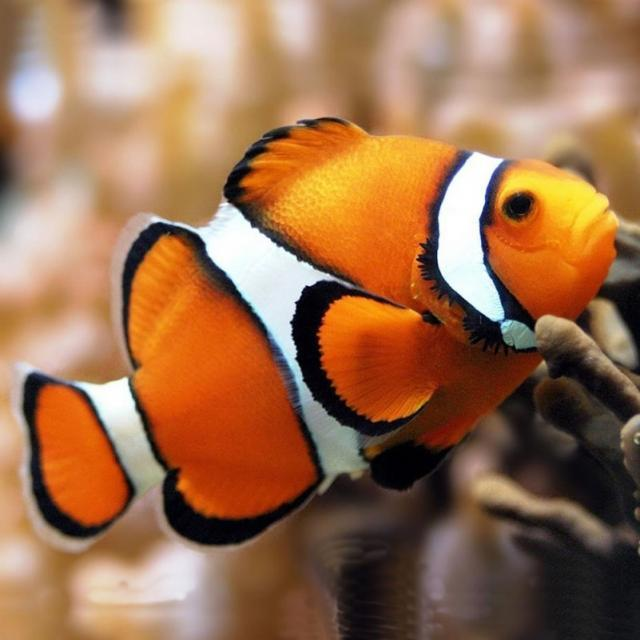ClownFish: (20, 113, 622, 551)
